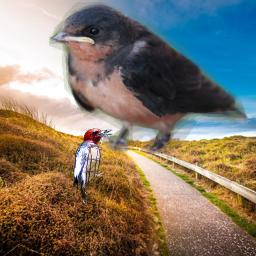Swallow: (49, 2, 248, 154)
Woodpecker: (73, 128, 113, 207)
